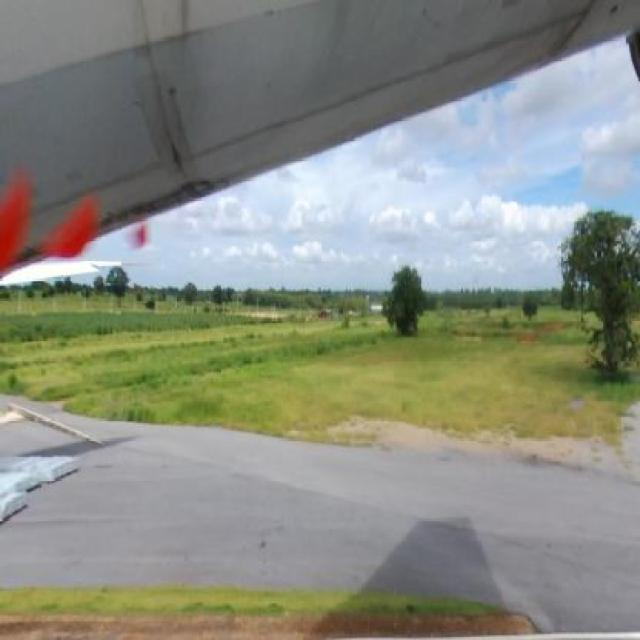Rust: (116, 2, 242, 218), (476, 2, 607, 95)
